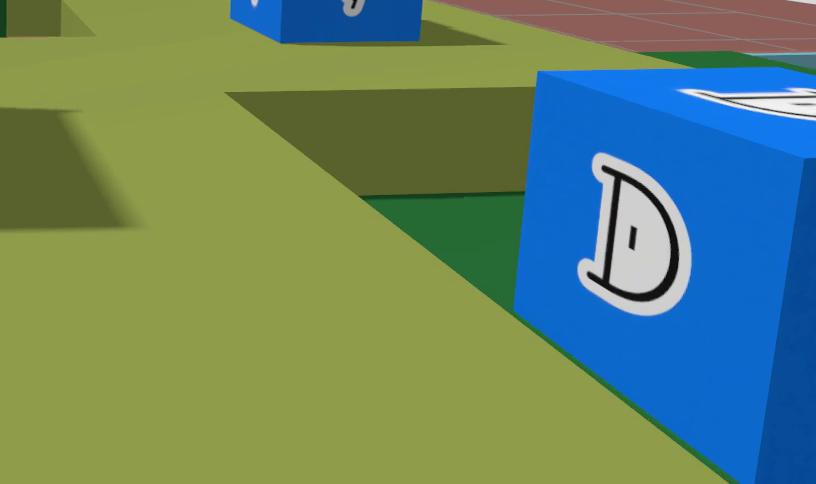KFS_REAL: (515, 67, 815, 483), (580, 152, 690, 315), (229, 0, 421, 43), (681, 87, 815, 119), (339, 0, 366, 16)
